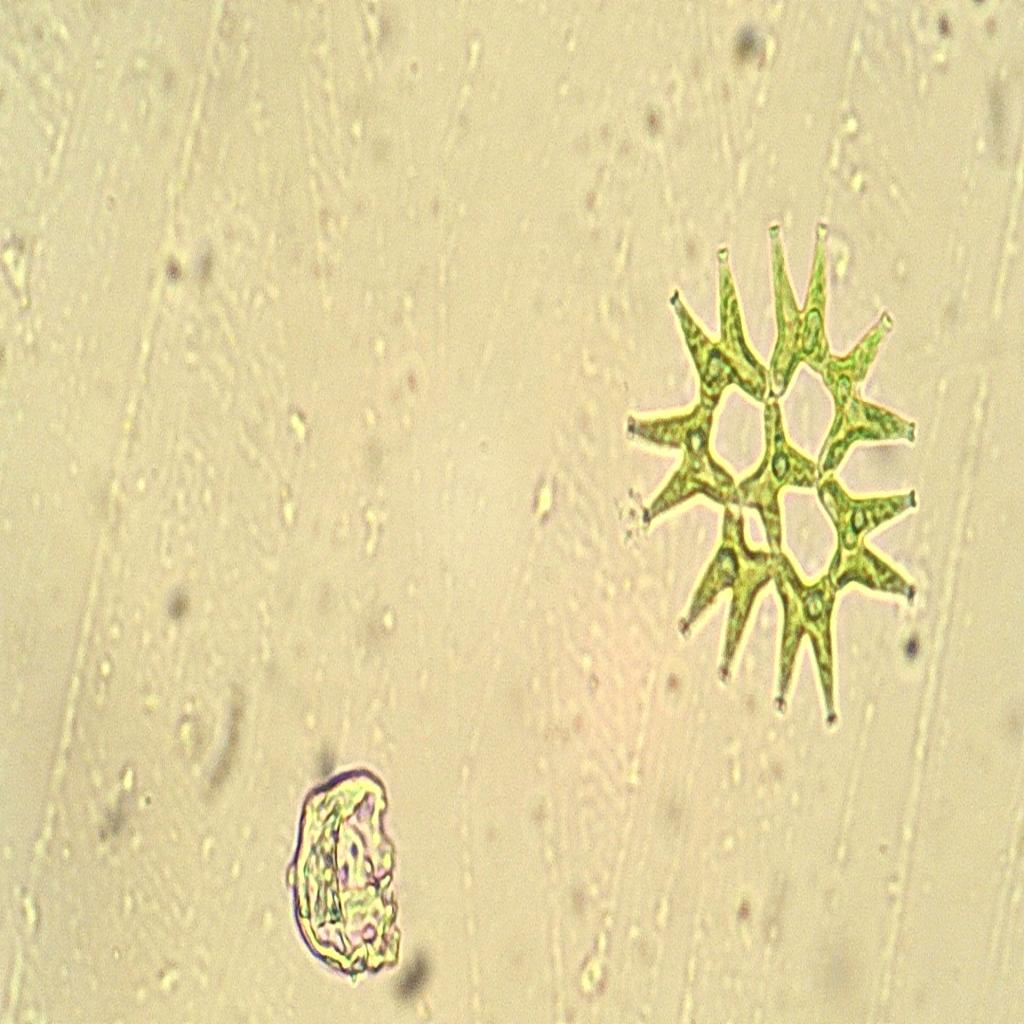Pediastrum_1T: (614, 213, 938, 752)
